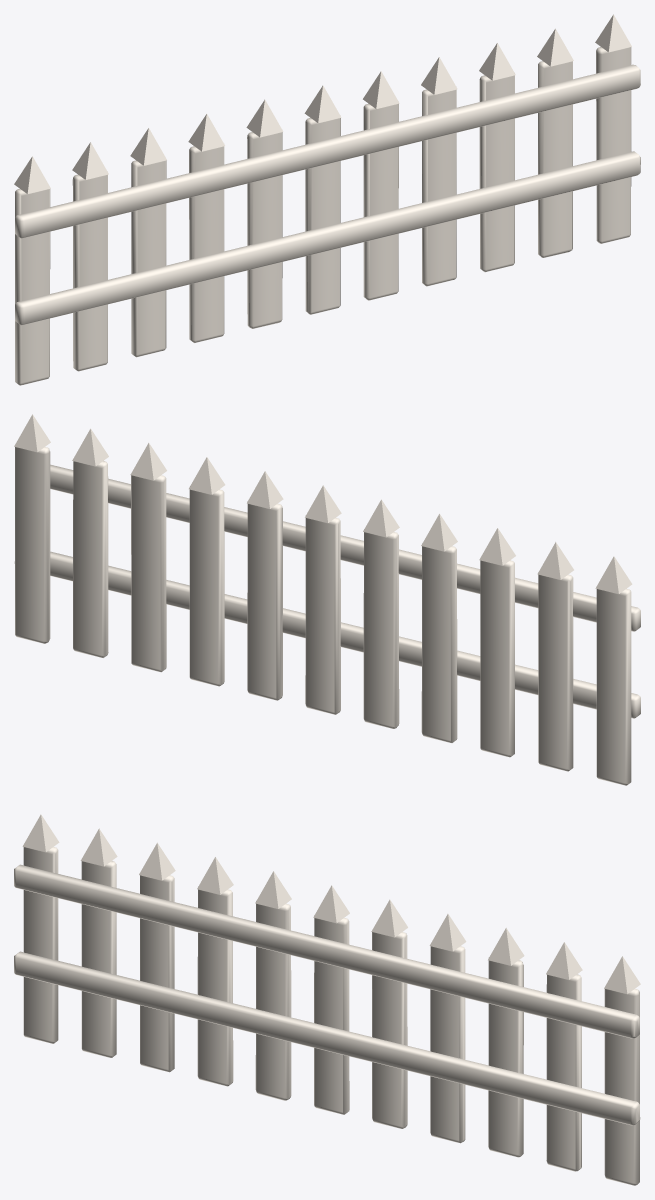
Rendered from fence.glb.
The picture shows the model from 3 angles, top to bottom: view 1: azimuth 30°, elevation 25°; view 2: azimuth 150°, elevation 25°; view 3: azimuth 330°, elevation 25°; orthographic projection.
Visible parts, largest first — view 1: fence; view 2: fence; view 3: fence.
Boxes of the visible parts, <box> form: fence: <box>14,14,640,385</box>; fence: <box>14,414,640,785</box>; fence: <box>14,814,640,1185</box>.
Size of the model in its own units: 3 by 1.04 by 0.1251.
Materials: 1 (1 with a texture image).
